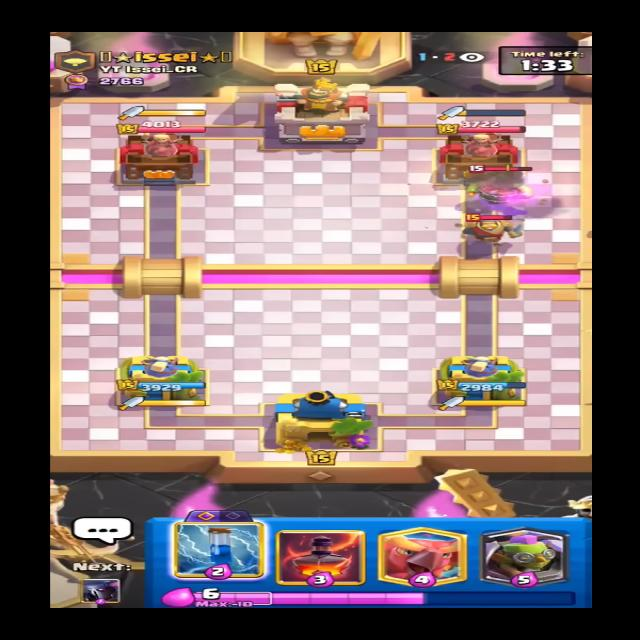Goblindemolisher: (464, 165, 536, 208)
Knight: (459, 208, 524, 248)
